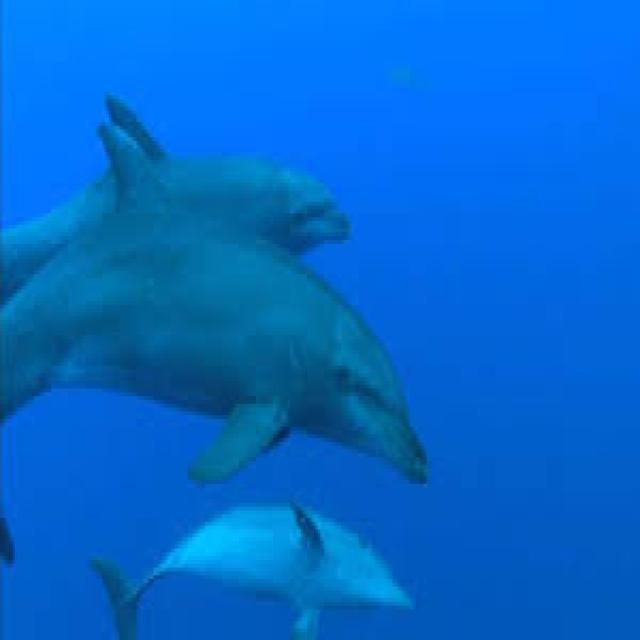dolphin: (5, 206, 438, 480), (0, 95, 356, 247), (90, 495, 416, 640)
